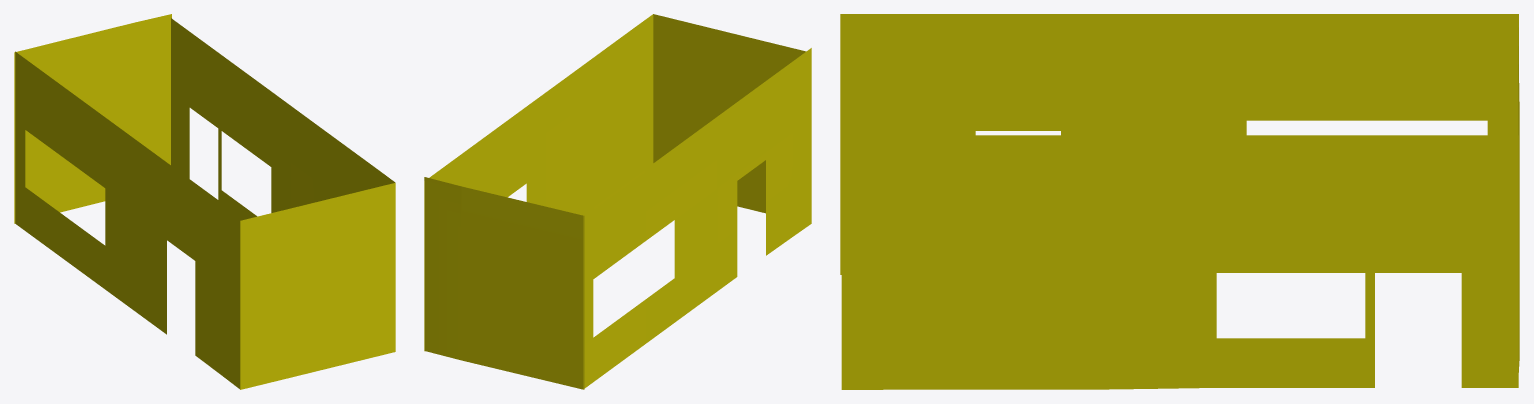
The picture shows the model from 3 angles, left to right: view 1: azimuth 30°, elevation 25°; view 2: azimuth 150°, elevation 25°; view 3: azimuth 270°, elevation 25°; orthographic projection. The views are drawn at different scales.
Visible parts, largest first — view 1: R_01_WP_04; view 2: R_01_WP_04; view 3: R_01_WP_04.
Part boxes in pixels (box(x1,y1,x2,y2)): R_01_WP_04: box(14, 14, 395, 389); R_01_WP_04: box(424, 14, 811, 389); R_01_WP_04: box(840, 14, 1519, 389).
Size of the model in its own units: 389 by 411 by 965.
